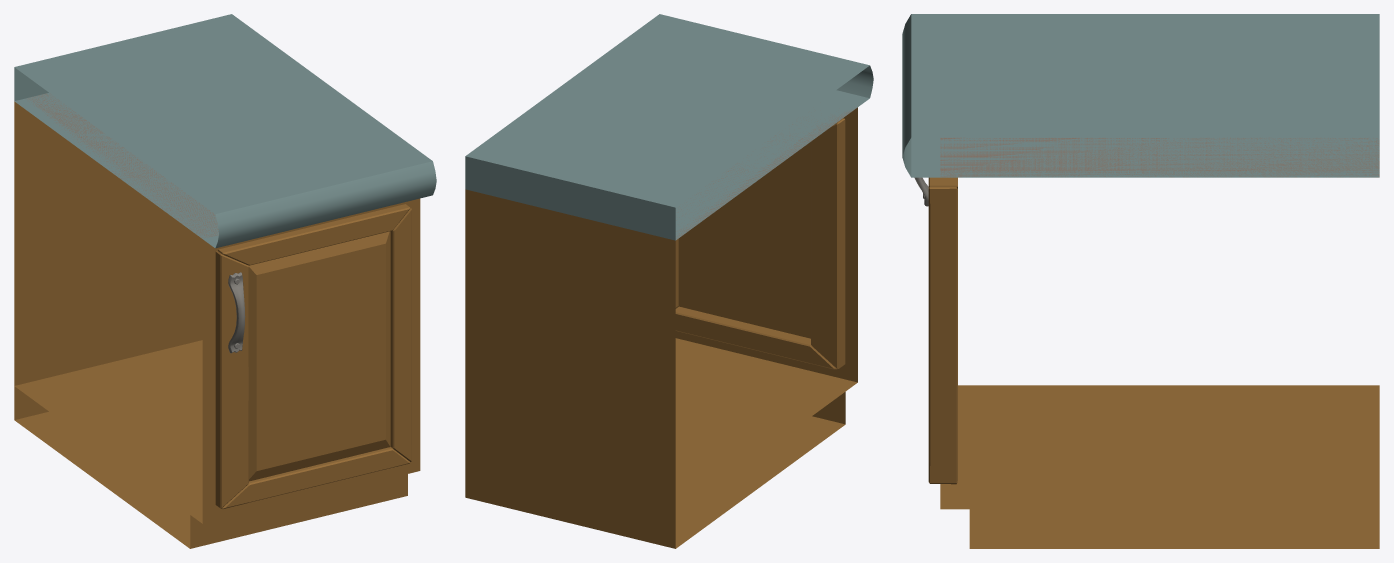
File: Counter_1M.fbx
The picture shows the model from 3 angles, left to right: view 1: azimuth 30°, elevation 25°; view 2: azimuth 150°, elevation 25°; view 3: azimuth 270°, elevation 25°; orthographic projection. The views are drawn at different scales.
Parts seen in each view (by area): view 1: Counter_1M; view 2: Counter_1M; view 3: Counter_1M.
Boxes of the visible parts, x1,y1,x2,y2 form: Counter_1M: [14, 14, 436, 548]; Counter_1M: [465, 14, 873, 548]; Counter_1M: [902, 14, 1379, 548].
Size of the model in its own units: 1 by 1.55 by 1.63.
